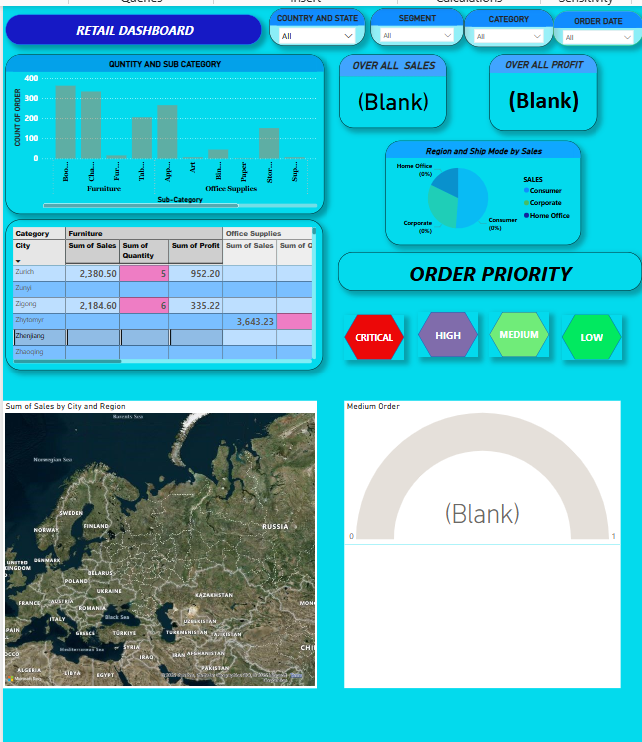

This screenshot's page, from the dashboard's own definition file:
{"tool":"powerbi","page":{"name":"Retail Dashboard","canvas":[1280,1500],"ordinal":0},"visuals":[{"type":"slicer","title":"SEGMENT","fields":{"Values":["Orders Table.Segment"]},"box":[734.8,11.3,186.5,74.9],"z":0},{"type":"textbox","box":[4.8,25,512.6,60.8],"z":1000},{"type":"slicer","title":"CATEGORY","fields":{"Values":["Orders Table.Category"]},"box":[921.4,14.1,178.1,74.9],"z":2000},{"type":"slicer","title":"COUNTRY AND STATE","fields":{"Values":["Orders Table.Country","Orders Table.State"]},"box":[531.3,12.7,192.2,74.9],"z":3000},{"type":"slicer","title":"ORDER DATE","fields":{"Values":["Orders Table.Order Date.Variation.Date Hierarchy.Year"]},"box":[1099.4,17,180.9,70.7],"z":4000},{"type":"clusteredColumnChart","title":"QUNTITY AND SUB CATEGORY","fields":{"Category":["Orders Table.Category","Orders Table.Sub-Category"],"Y":["CountNonNull(Orders Table.Order ID)"]},"box":[4.2,106,637.3,319.4],"z":5000},{"type":"card","title":"OVER ALL  SALES","fields":{"Values":["Sum(Orders Table.Sales)"]},"box":[672.6,106,214.8,147],"z":6000},{"type":"card","title":"OVER ALL PROFIT","fields":{"Values":["Sum(Orders Table.Profit)"]},"box":[973.6,106,216.2,152.6],"z":7000},{"type":"pieChart","title":" Region and  Ship Mode by Sales","fields":{"Y":["Sum(Orders Table.Sales)"],"Category":["Orders Table.Segment"]},"box":[764.1,277.7,391,208.6],"z":8000},{"type":"pivotTable","fields":{"Rows":["Orders Table.City"],"Columns":["Orders Table.Category"],"Values":["Sum(Orders Table.Sales)","Sum(Orders Table.Quantity)","Sum(Orders Table.Profit)"]},"box":[4.8,435.1,635.4,301.6],"z":9000},{"type":"shape","box":[682.5,626,120,90.4],"z":10000},{"type":"shape","box":[830.9,618.9,120,90],"z":11000},{"type":"shape","box":[973.6,618.9,120,90],"z":12000},{"type":"shape","box":[1116.4,626,120,90],"z":13000},{"type":"textbox","box":[669.9,499.5,607.9,77.5],"z":14000},{"type":"map","fields":{"Series":["Orders Table.Region"],"Category":["Orders Table.City"],"Size":["Sum(Orders Table.Sales)"]},"box":[0,798.4,628.1,575],"z":15000},{"type":"gauge","title":"Low Order","fields":{"Y":["CountNonNull(Orders Table.Order Priority)"]},"box":[682.8,798.4,553.1,287.5],"z":19000},{"type":"textbox","box":[683,1086,553,287],"z":20000}]}

Visuals, with their boxes on the page's 1280x1500 design canvas (x1, y1, x2, y2). These are canvas units, not pixel positions in the 642x742 screenshot, which may show the page scaled, cropped or inside an application window:
"SEGMENT" slicer: [735, 11, 921, 86]
textbox: [5, 25, 517, 86]
"CATEGORY" slicer: [921, 14, 1100, 89]
"COUNTRY AND STATE" slicer: [531, 13, 724, 88]
"ORDER DATE" slicer: [1099, 17, 1280, 88]
"QUNTITY AND SUB CATEGORY" clusteredColumnChart: [4, 106, 642, 425]
"OVER ALL  SALES" card: [673, 106, 887, 253]
"OVER ALL PROFIT" card: [974, 106, 1190, 259]
" Region and  Ship Mode by Sales" pieChart: [764, 278, 1155, 486]
pivotTable - Orders Table.City x Orders Table.Category: [5, 435, 640, 737]
shape: [682, 626, 802, 716]
shape: [831, 619, 951, 709]
shape: [974, 619, 1094, 709]
shape: [1116, 626, 1236, 716]
textbox: [670, 500, 1278, 577]
map - Orders Table.Region x Orders Table.City: [0, 798, 628, 1373]
"Low Order" gauge: [683, 798, 1236, 1086]
textbox: [683, 1086, 1236, 1373]
